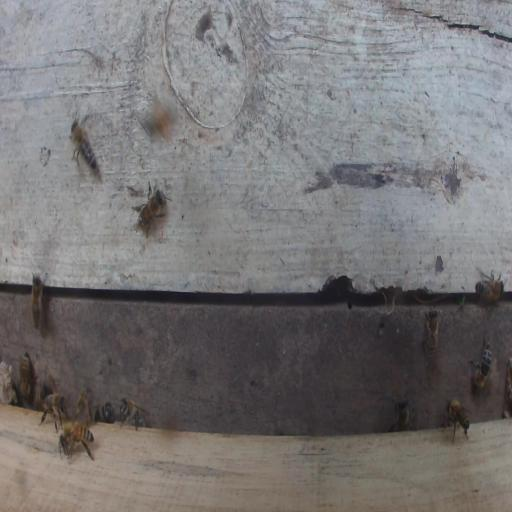bee: (130, 179, 175, 239), (35, 372, 70, 434), (58, 408, 96, 462), (466, 331, 493, 392), (475, 264, 505, 310), (70, 120, 98, 169), (25, 270, 46, 330), (446, 398, 472, 444), (387, 396, 418, 434), (420, 304, 439, 366), (119, 396, 151, 432), (17, 350, 39, 402), (92, 400, 114, 423)
